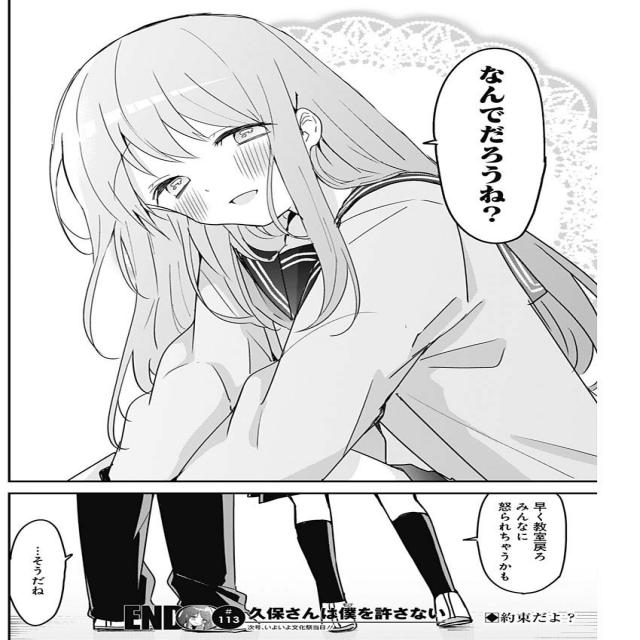Bubble: (431, 46, 549, 244), (475, 494, 569, 596), (6, 516, 70, 628)
